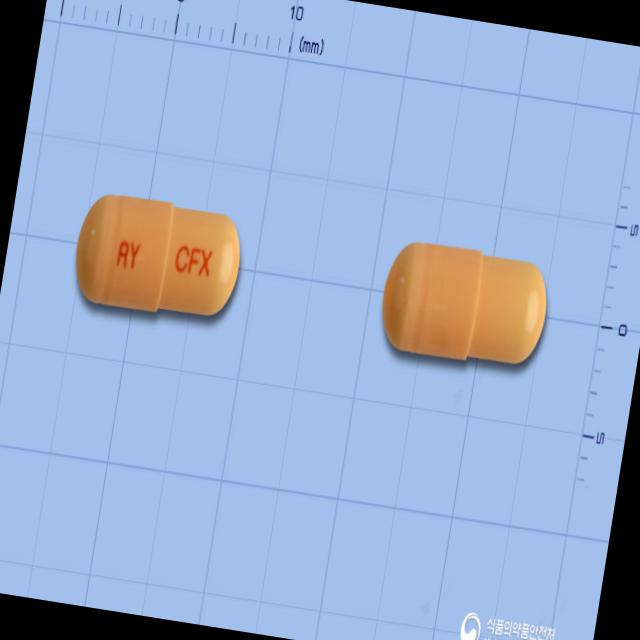Cefixime Cap- Reyon: (66, 178, 254, 334)
